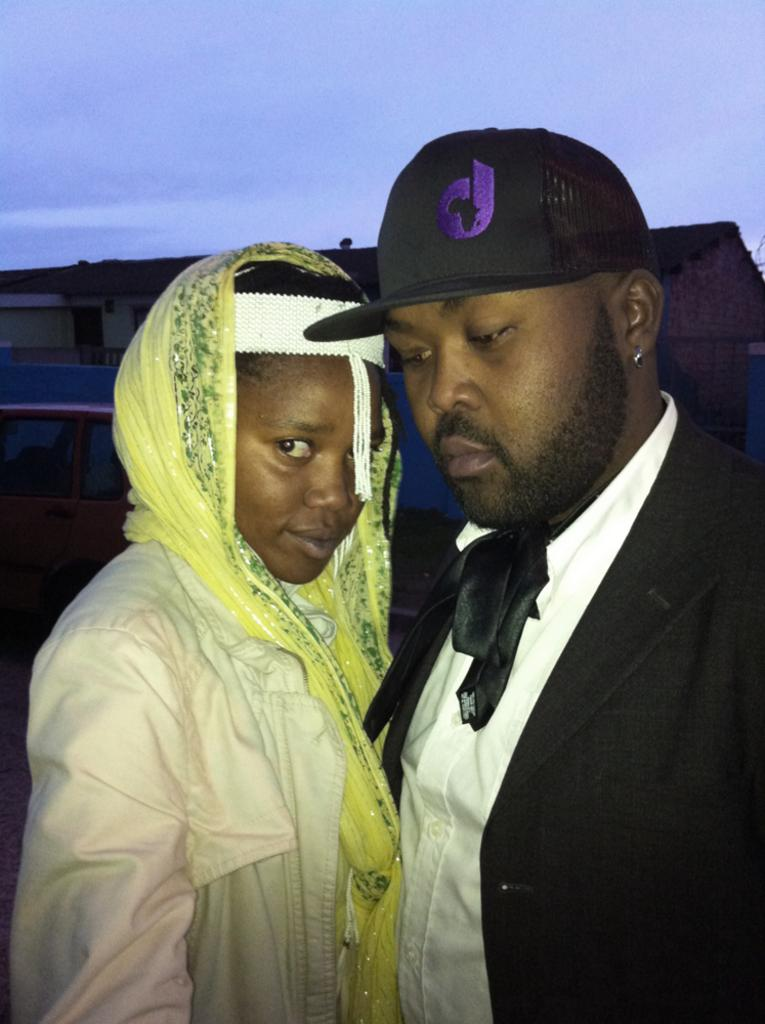Hat: (304, 124, 656, 348)
